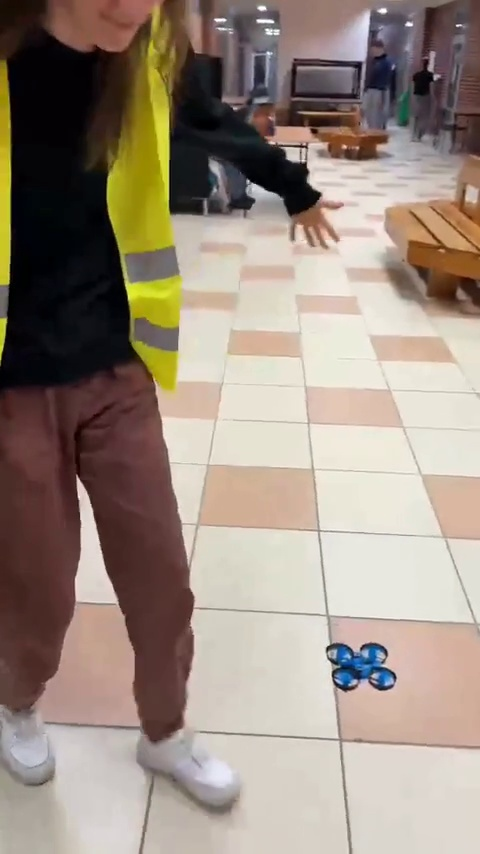drone: (321, 641, 403, 698)
no vest: (357, 39, 394, 138), (405, 55, 448, 135)
vest: (3, 4, 227, 806)
